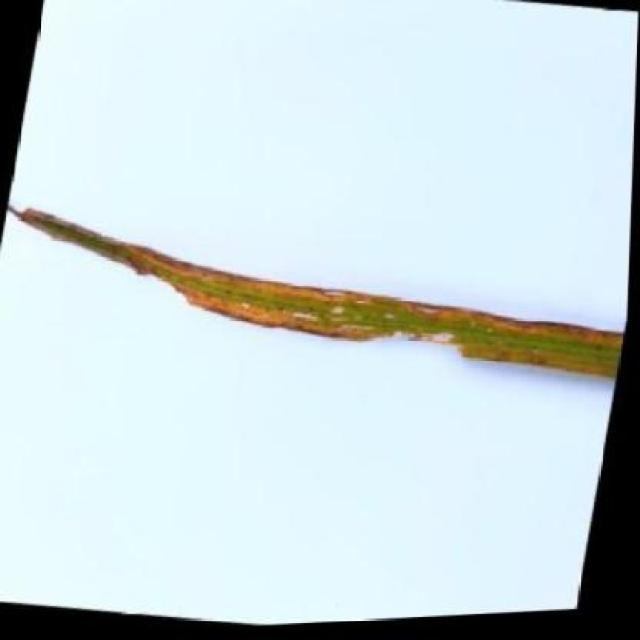Rice False Smut: (0, 157, 635, 414)
